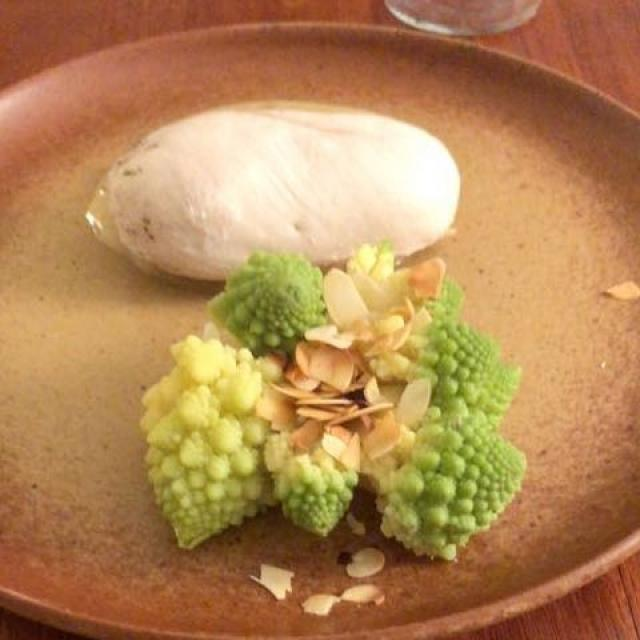almonds: (256, 270, 443, 493)
chicken-breast: (79, 115, 470, 270)
romanesco: (147, 251, 517, 553)
